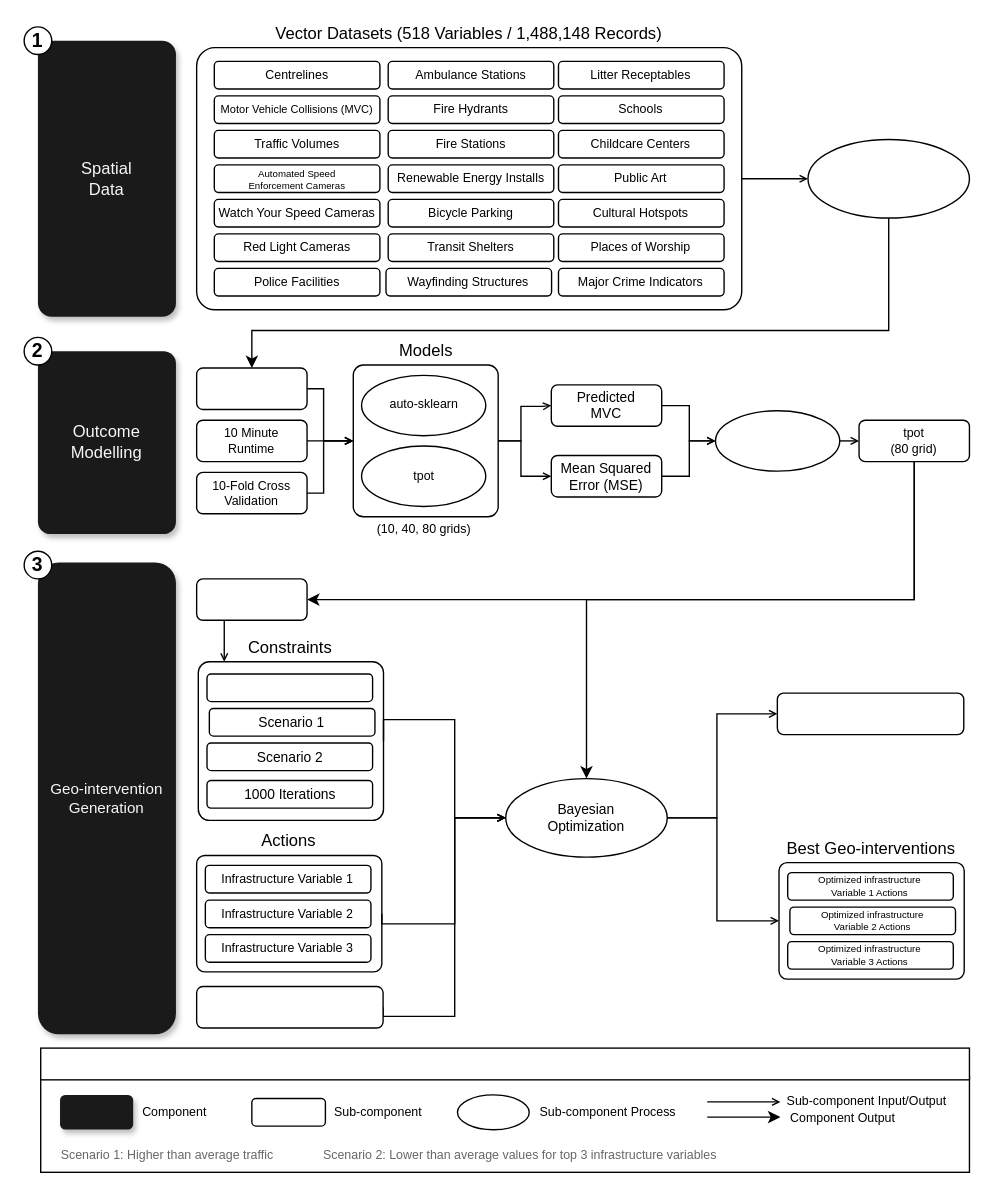
The diagram is 994 pixels wide and 1196 high, and some of its shapes have lost their labels. Each missing label, with the centre of its shape:
1408 Variables (10, 40, 80 grids): point (251, 388)
Legend: point (504, 1063)
Lowest Total Predicted MVC: point (870, 713)
Select Lowest MSE Model: point (777, 440)
Spatial Aggregation (10, 40, 80 grids): point (888, 178)
Top 3 Important Infrastructure Variables: point (289, 687)
Total MVC: point (289, 1006)
Variable Importance: point (251, 599)
